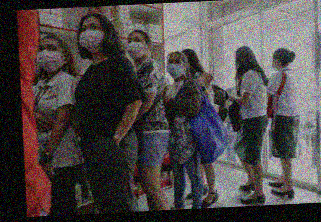with_mask: (77, 21, 105, 54), (36, 41, 65, 72), (126, 35, 145, 59), (166, 56, 184, 78), (270, 56, 280, 73)
